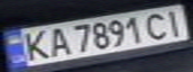1: (121, 14, 148, 44)
7: (69, 21, 93, 53)
8: (90, 19, 112, 51)
9: (106, 17, 130, 47)
A: (42, 25, 72, 57)
C: (139, 9, 175, 40)
I: (160, 7, 190, 37)
K: (15, 28, 54, 62)
